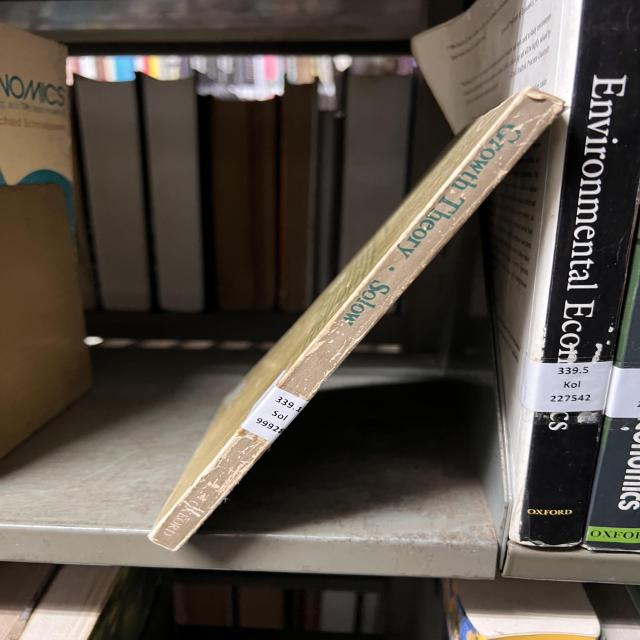Book: (148, 89, 563, 550), (413, 0, 638, 548)
Label: (520, 355, 612, 412), (242, 372, 308, 442)
